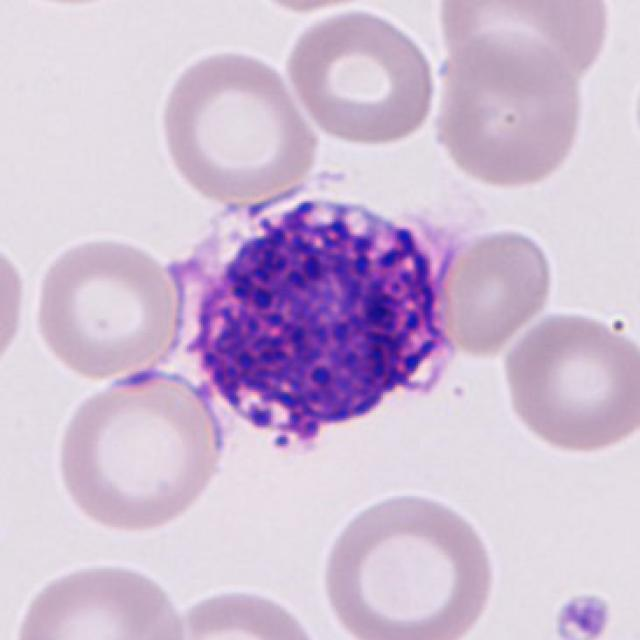Basophil: (154, 180, 470, 477)
Platelets: (549, 588, 619, 640)
RBC: (49, 364, 233, 538), (314, 485, 503, 640), (152, 43, 322, 205), (427, 31, 588, 193), (28, 229, 185, 383), (280, 4, 442, 149), (497, 307, 638, 458), (430, 224, 556, 359), (430, 2, 616, 92), (7, 555, 192, 640), (164, 581, 329, 640), (0, 231, 31, 380), (236, 0, 416, 16)
